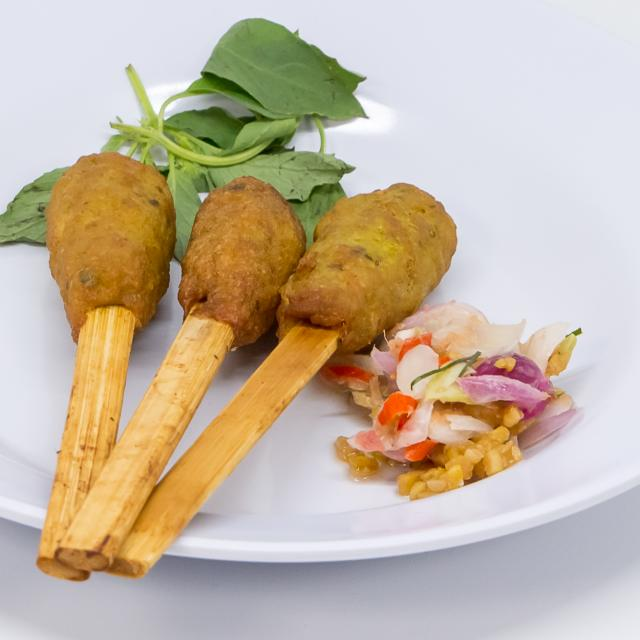Sate-Lilit: (16, 99, 582, 508)
